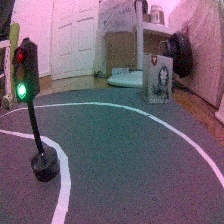green: (11, 37, 62, 184)
